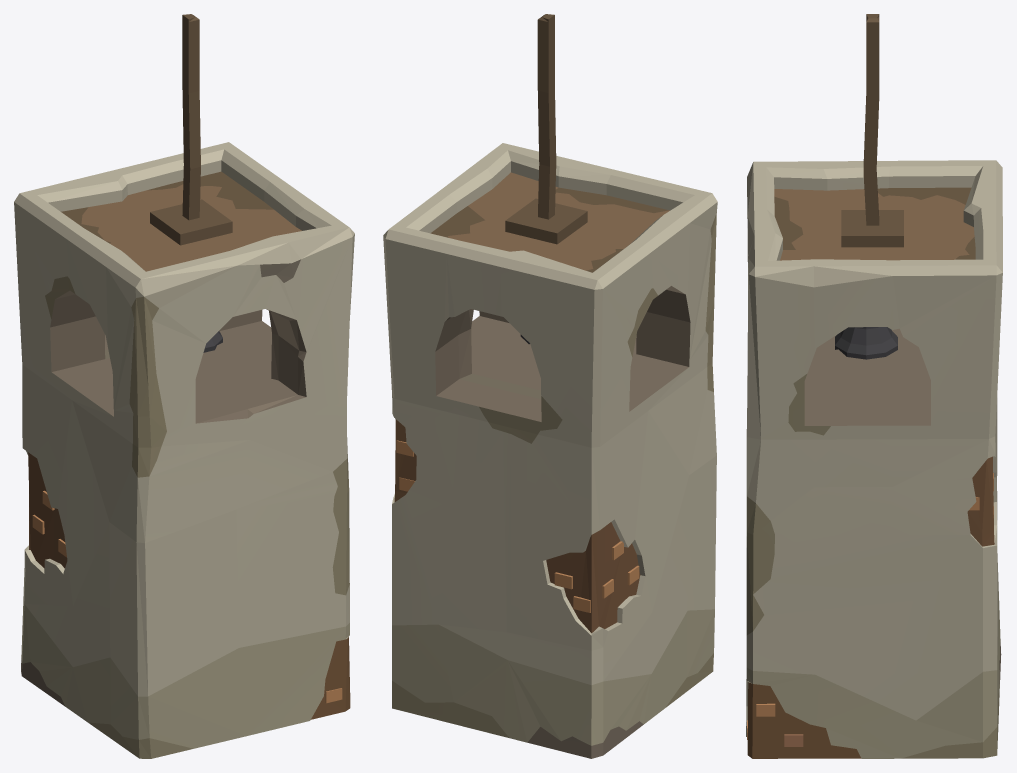
The model's file is adventure_SM_Bld_Village_07.gltf.
3 views of the same model, side by side, from view 1: azimuth 30°, elevation 25°; view 2: azimuth 150°, elevation 25°; view 3: azimuth 270°, elevation 25° (orthographic). The views are drawn at different scales.
Parts seen in each view (by area): view 1: SM_Bld_Village_07; view 2: SM_Bld_Village_07; view 3: SM_Bld_Village_07.
Part boxes in pixels (x1,y1,x2,y2): SM_Bld_Village_07: (14, 14, 354, 758); SM_Bld_Village_07: (383, 14, 717, 758); SM_Bld_Village_07: (746, 14, 1002, 758).
Size of the model in its own units: 3.18 by 9.16 by 3.08.
1 material, 1 textured.
